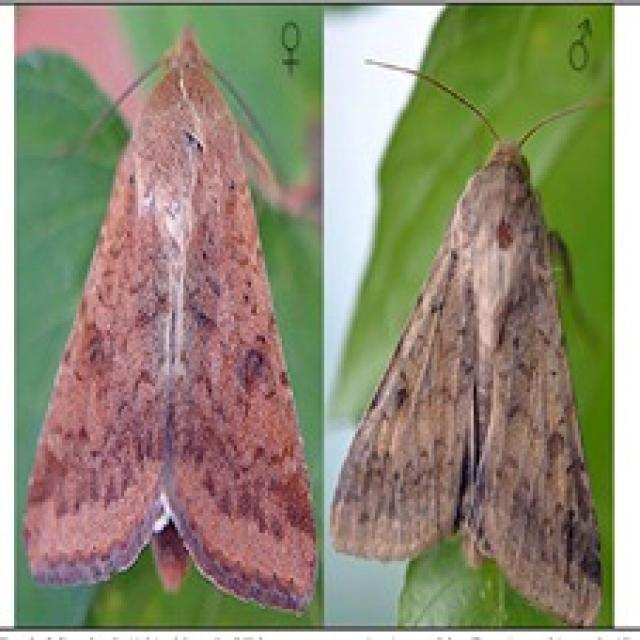Healthy: (24, 28, 320, 613), (329, 111, 608, 631)
